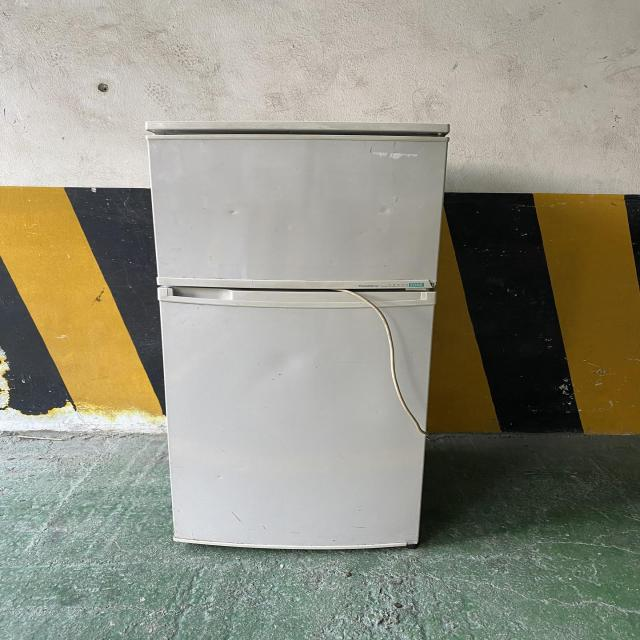refrigerator: (140, 115, 453, 556)
